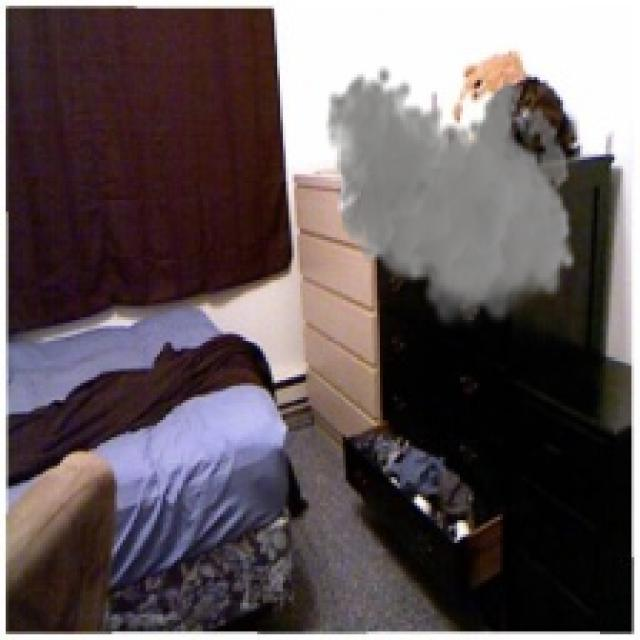smoke: (326, 66, 577, 334)
